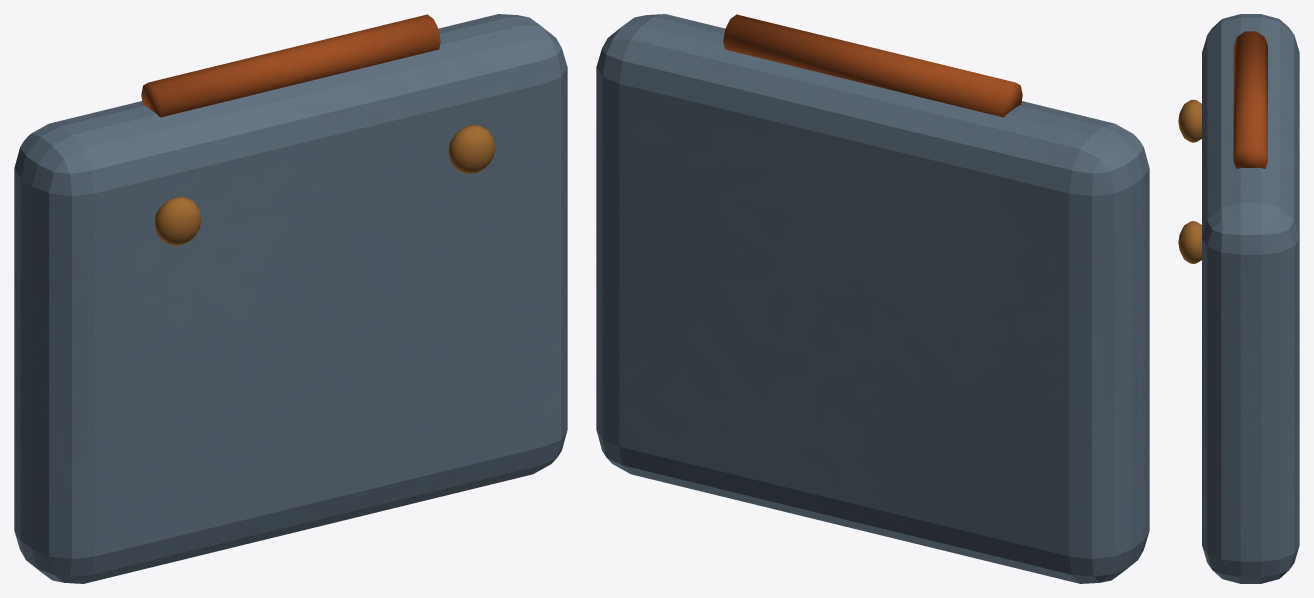
File: SM_iron_shield_fragment.fbx
3 renders of one model, left to right at view 1: azimuth 30°, elevation 25°; view 2: azimuth 150°, elevation 25°; view 3: azimuth 270°, elevation 25°, orthographic. The views are drawn at different scales.
Parts seen in each view (by area): view 1: SM_iron_shield_fragment; view 2: SM_iron_shield_fragment; view 3: SM_iron_shield_fragment.
Boxes of the visible parts, x1=… form: SM_iron_shield_fragment: x1=14, y1=14, x2=567, y2=583; SM_iron_shield_fragment: x1=596, y1=14, x2=1149, y2=583; SM_iron_shield_fragment: x1=1178, y1=14, x2=1299, y2=583.
Bounding box in the file's own units: 0.36 × 0.0845 × 0.3064.
